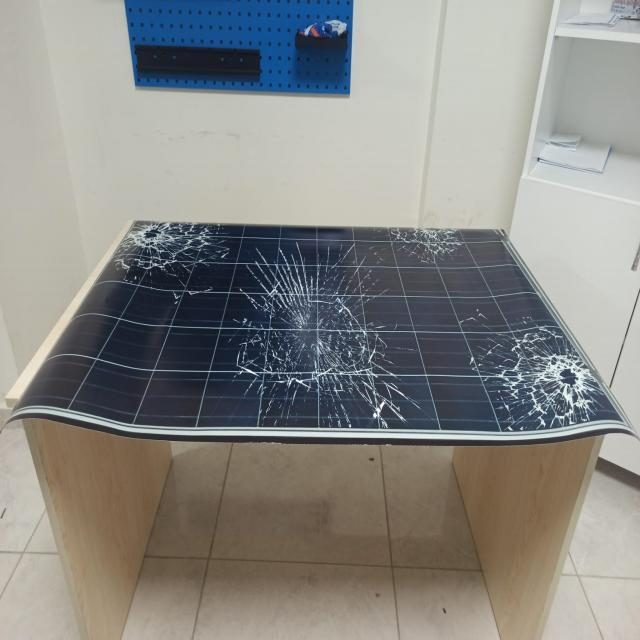faulty: (2, 221, 640, 446)
